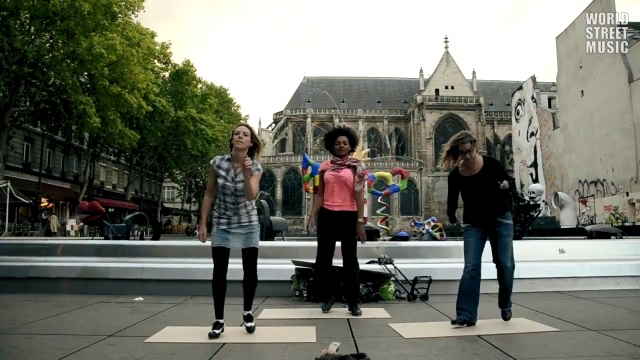person: (441, 130, 522, 328), (199, 124, 269, 341), (304, 130, 371, 321)
